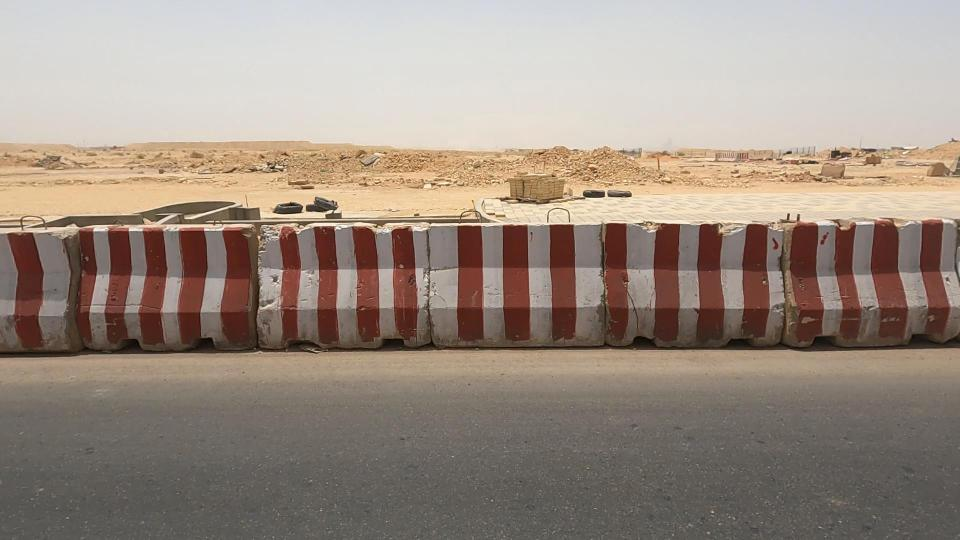CONSTRUCTION_ROAD: (0, 117, 728, 440), (370, 120, 960, 427)
GARBAGE: (224, 176, 384, 242), (544, 159, 664, 229), (328, 129, 421, 201), (240, 140, 309, 197)
SAND_ON_ROAD: (236, 120, 505, 217), (427, 126, 660, 200)
